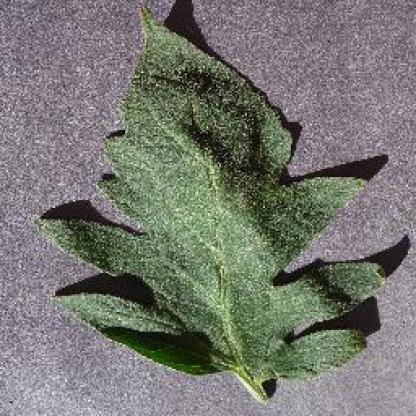bad leaf: (35, 0, 398, 413)
